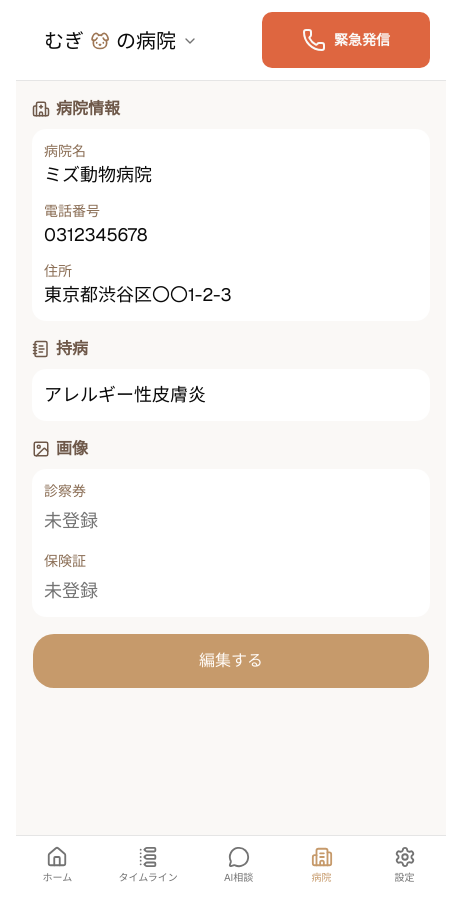
Test: HospitalPage › 表示/編集モード切替 › UT-F-305: 「編集する」ボタンクリックでisEditing=trueになりHospitalEditViewが表示される
The width and height of the screenshot is (463, 899).
Step 1. Click the button "編集する" → point(231, 661), box [32, 633, 430, 689]
(page scrolled)
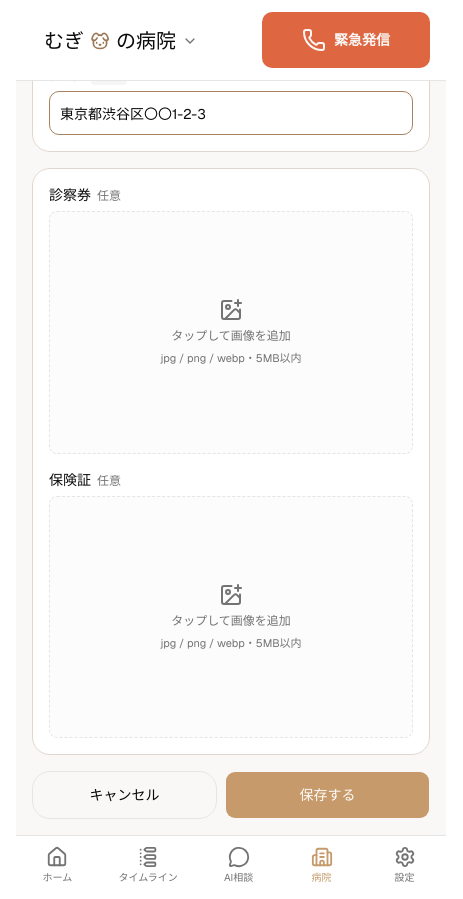
Expected: the button "保存する" is shown, [225, 771, 430, 819]
Expected: the button "キャンセル" is shown, [32, 771, 217, 819]
